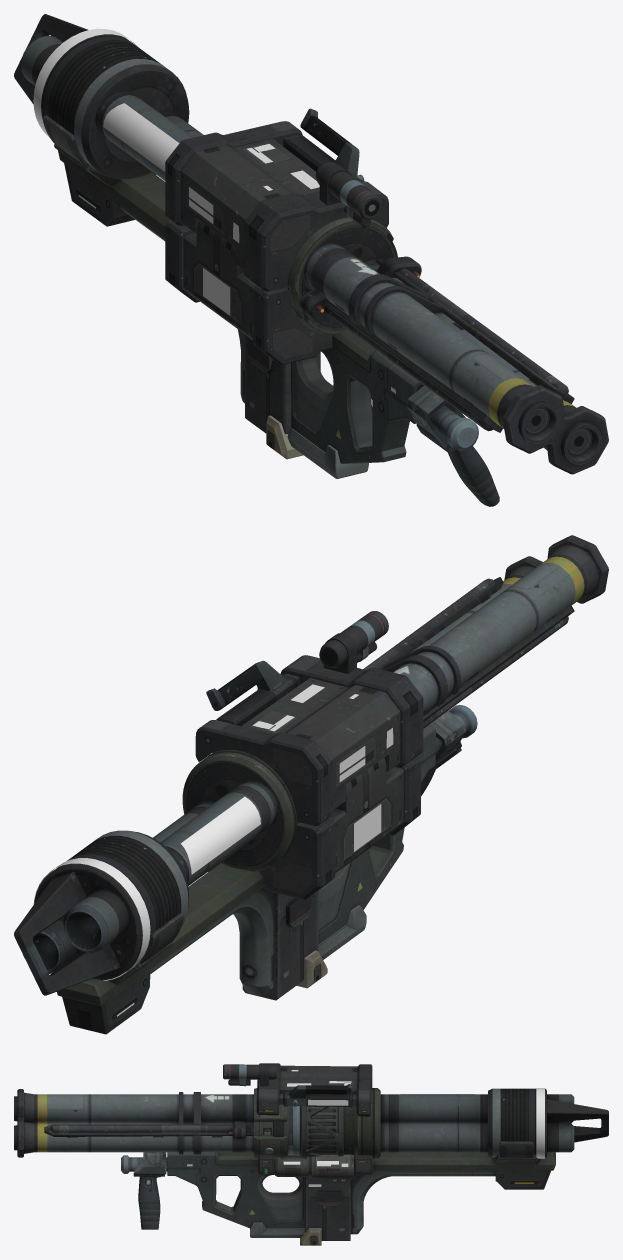
File: M41_1stP_Rigged_v2.fbx
The picture shows the model from 3 angles, top to bottom: view 1: azimuth 30°, elevation 25°; view 2: azimuth 150°, elevation 25°; view 3: azimuth 270°, elevation 25°; orthographic projection. The views are drawn at different scales.
Visible parts, largest first — view 1: Launcher Tubes, Launcher, LauncherTop; view 2: Launcher Tubes, Launcher, LauncherTop; view 3: Launcher Tubes, Launcher, LauncherTop.
Boxes of the visible parts, box(x1,y1,x2,y2) form: Launcher Tubes: box(14, 14, 608, 474); Launcher: box(42, 115, 499, 506); LauncherTop: box(165, 108, 388, 291); Launcher Tubes: box(14, 535, 608, 995); Launcher: box(57, 705, 477, 1034); LauncherTop: box(195, 611, 423, 825); Launcher Tubes: box(14, 1088, 608, 1158); Launcher: box(121, 1141, 555, 1245); LauncherTop: box(223, 1063, 372, 1116).
Bounding box in the file's own units: 17.04 × 36.28 × 112.
3 materials, 1 textured.
